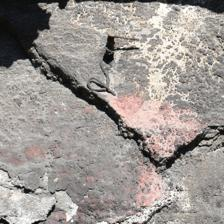Crack: (18, 83, 153, 140), (60, 70, 102, 154), (56, 94, 106, 149)
